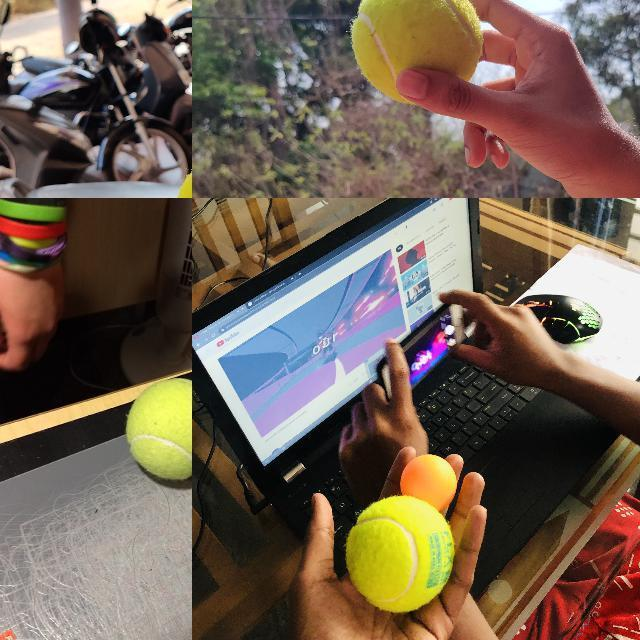tennis-ball: (351, 0, 483, 105), (346, 496, 454, 611), (126, 377, 191, 482)
